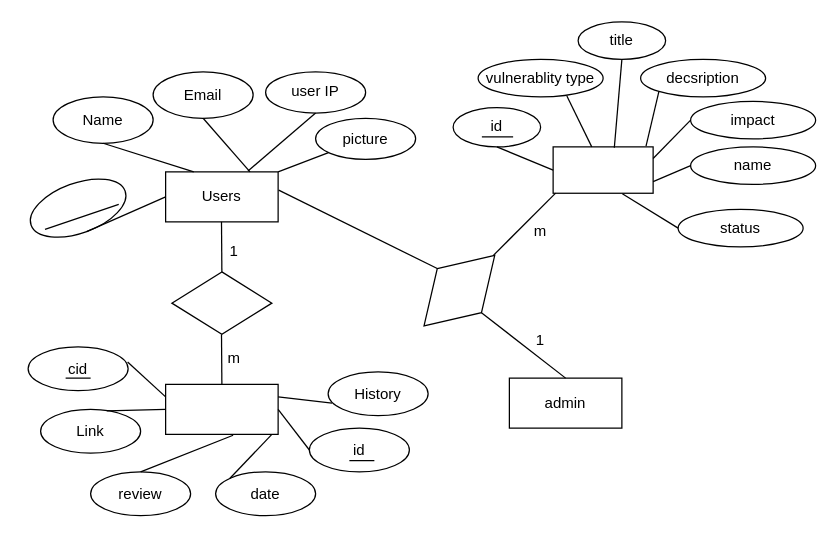
Some shapes in this 838 by 538 pixel diagram are drawn without their labels. Here are the shapes that lost their labels. From the top down, the centre of each, then its label:
At [602,169]: "whitehat".
At [77,207]: "Oauth UID".
At [221,302]: "sees".
At [458,290]: "views".
At [221,408]: "Search history".
